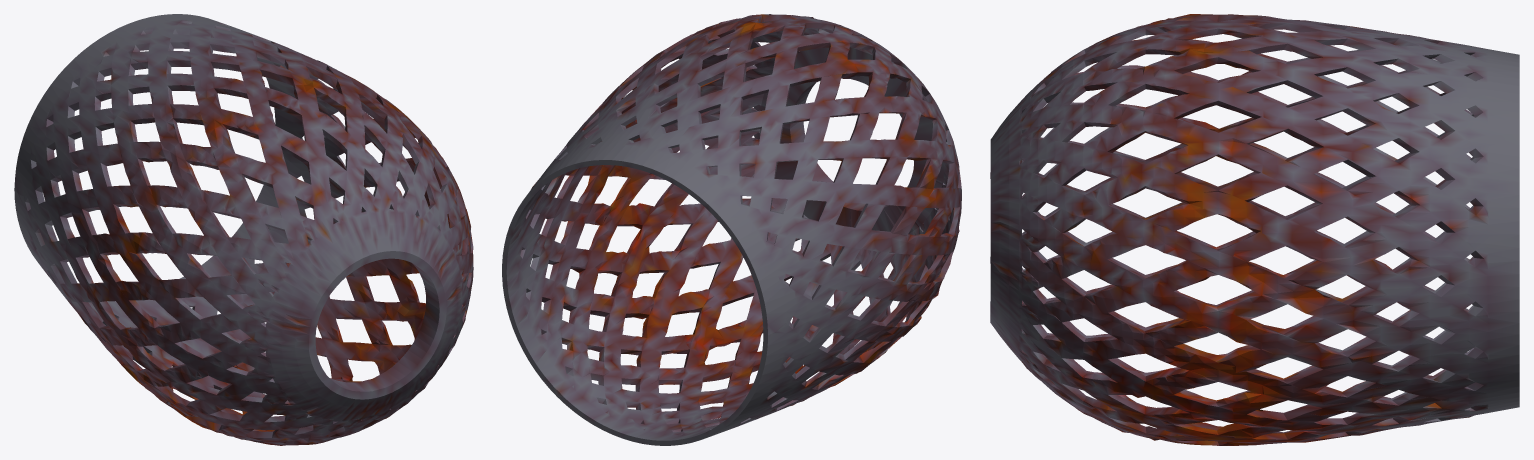
Rendered from lamp_shade_14_final200.obj.
3 views of the same model, side by side, from view 1: azimuth 30°, elevation 25°; view 2: azimuth 150°, elevation 25°; view 3: azimuth 270°, elevation 25° (orthographic). The views are drawn at different scales.
Size of the model in its own units: 1.22 by 1.21 by 1.49.
